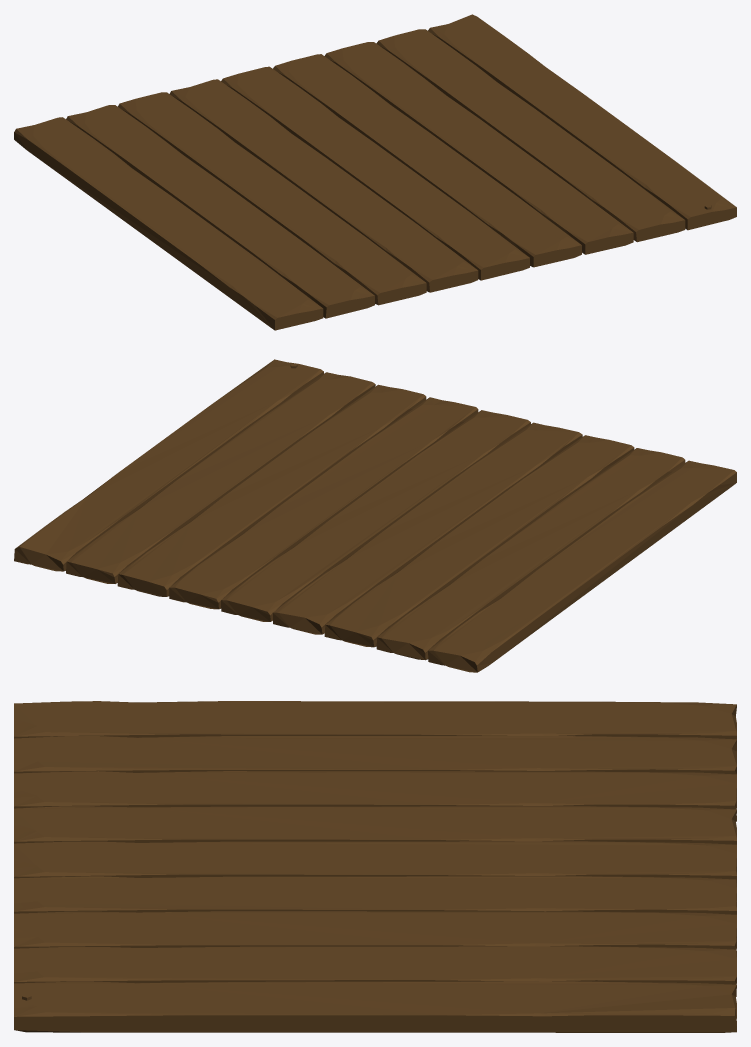
Rendered from floor.fbx.
The picture shows the model from 3 angles, top to bottom: view 1: azimuth 30°, elevation 25°; view 2: azimuth 150°, elevation 25°; view 3: azimuth 270°, elevation 25°; orthographic projection. The views are drawn at different scales.
Visible parts, largest first — view 1: floor; view 2: floor; view 3: floor.
Boxes of the visible parts, left/top/right/bottom form: floor: left=14, top=14, right=736, bottom=330; floor: left=14, top=359, right=736, bottom=672; floor: left=14, top=701, right=736, bottom=1032.
Size of the model in its own units: 779 by 27.01 by 759.
